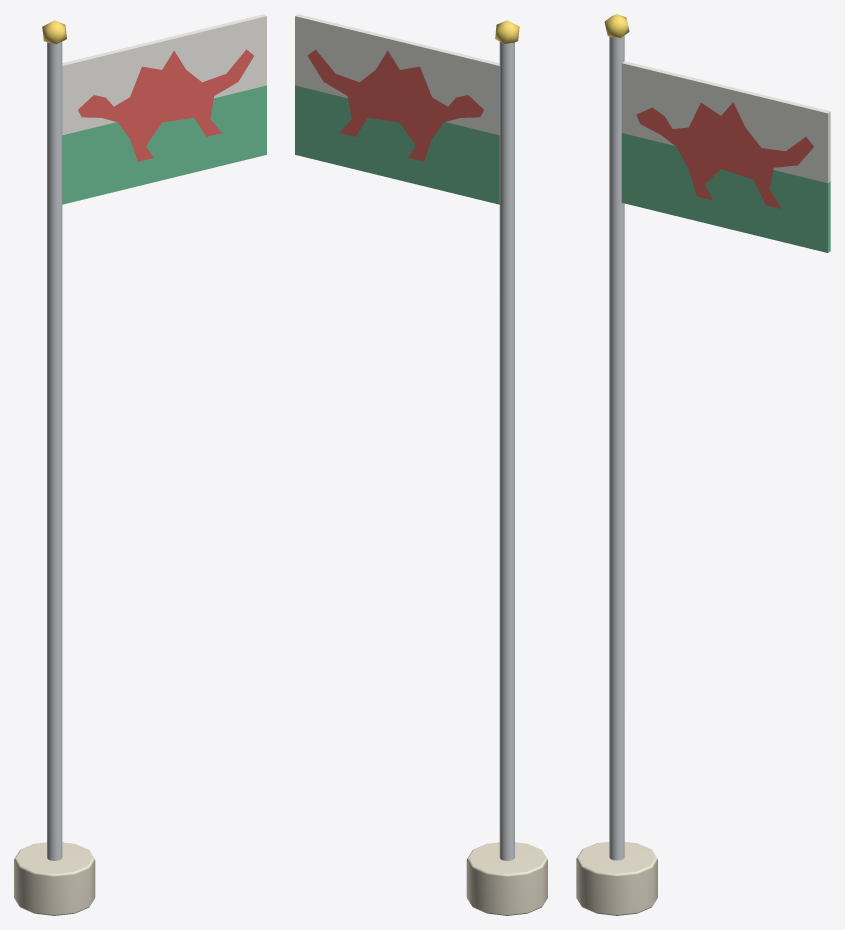
Rendered from flag_wales.fbx.
3 views of the same model, side by side, from view 1: azimuth 30°, elevation 25°; view 2: azimuth 150°, elevation 25°; view 3: azimuth 330°, elevation 25° (orthographic).
Parts seen in each view (by area): view 1: Visual; view 2: Visual; view 3: Visual.
Boxes of the visible parts, x1=… form: Visual: x1=14, y1=14, x2=266, y2=915; Visual: x1=295, y1=14, x2=547, y2=915; Visual: x1=576, y1=14, x2=830, y2=915.
Size of what is drawn, in the model's own units: 245 by 837 by 70.
